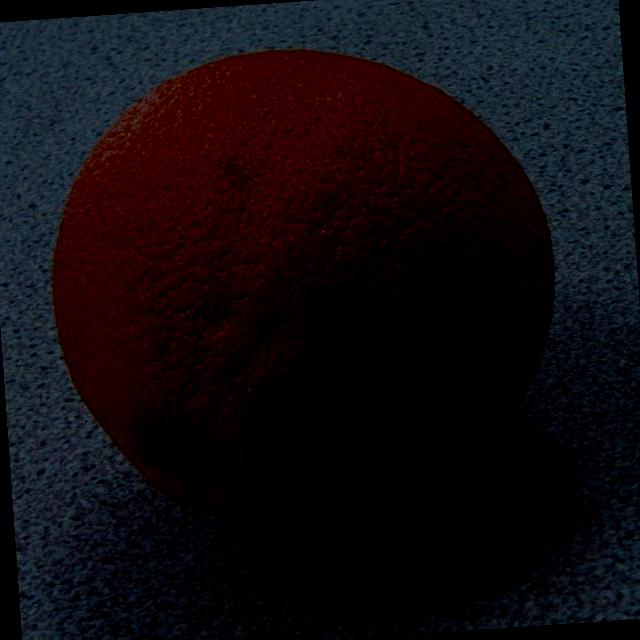Orange: (36, 29, 572, 546)
